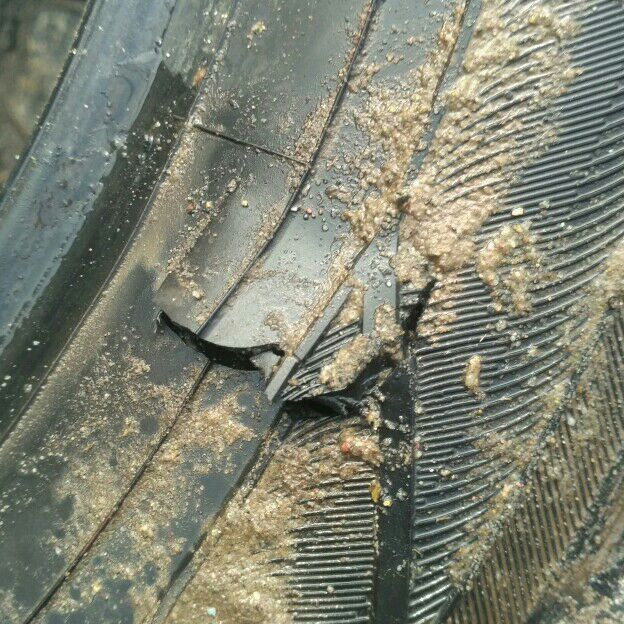cut: (277, 273, 438, 426), (154, 304, 294, 375)
